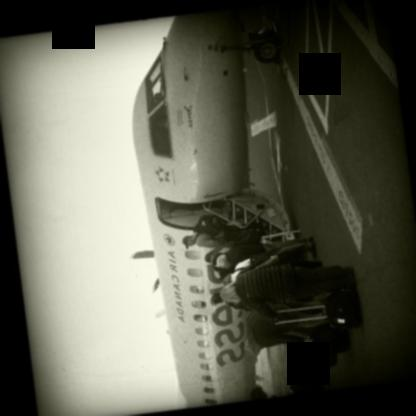backpack: (192, 213, 221, 237), (230, 226, 262, 245)
handbag: (275, 286, 363, 326), (236, 248, 300, 276)
suitcase: (309, 321, 348, 353), (289, 374, 325, 393)
